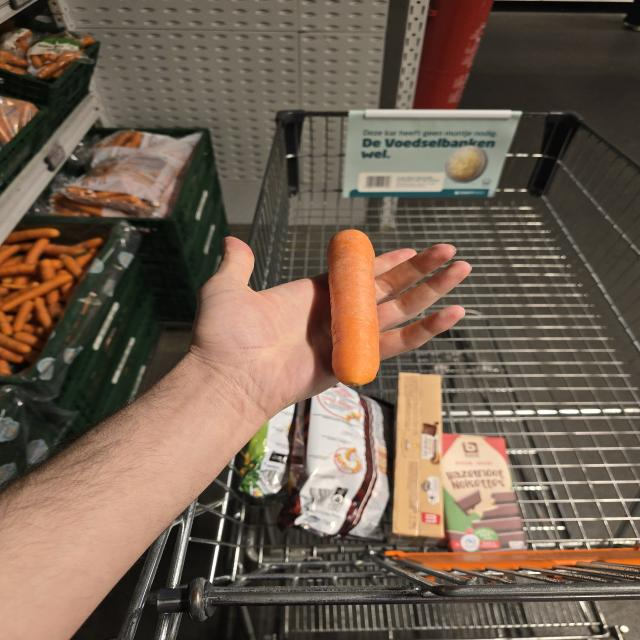Carrot: (327, 230, 380, 385)
